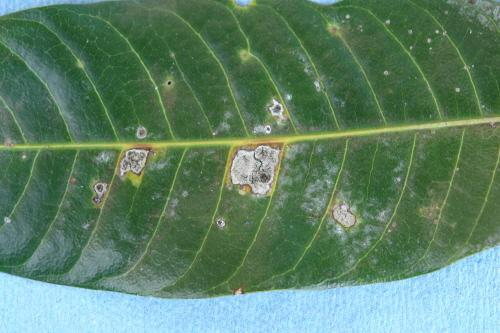pseudococcidae: (88, 137, 395, 255)
